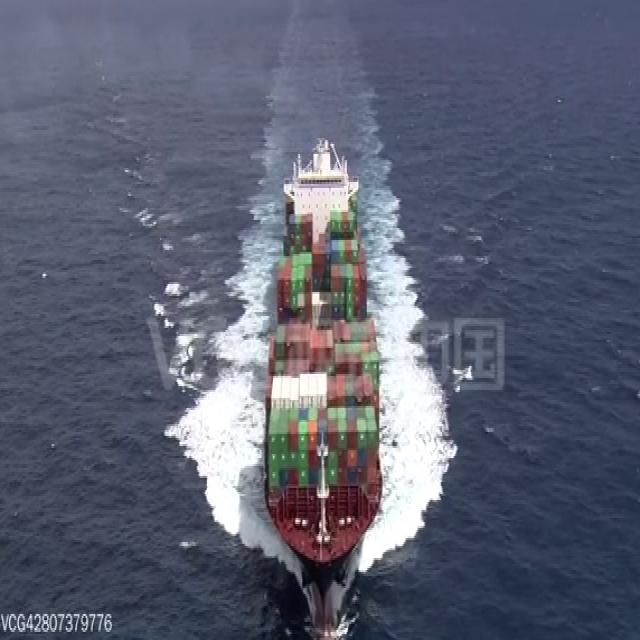cargoship: (257, 134, 384, 640)
